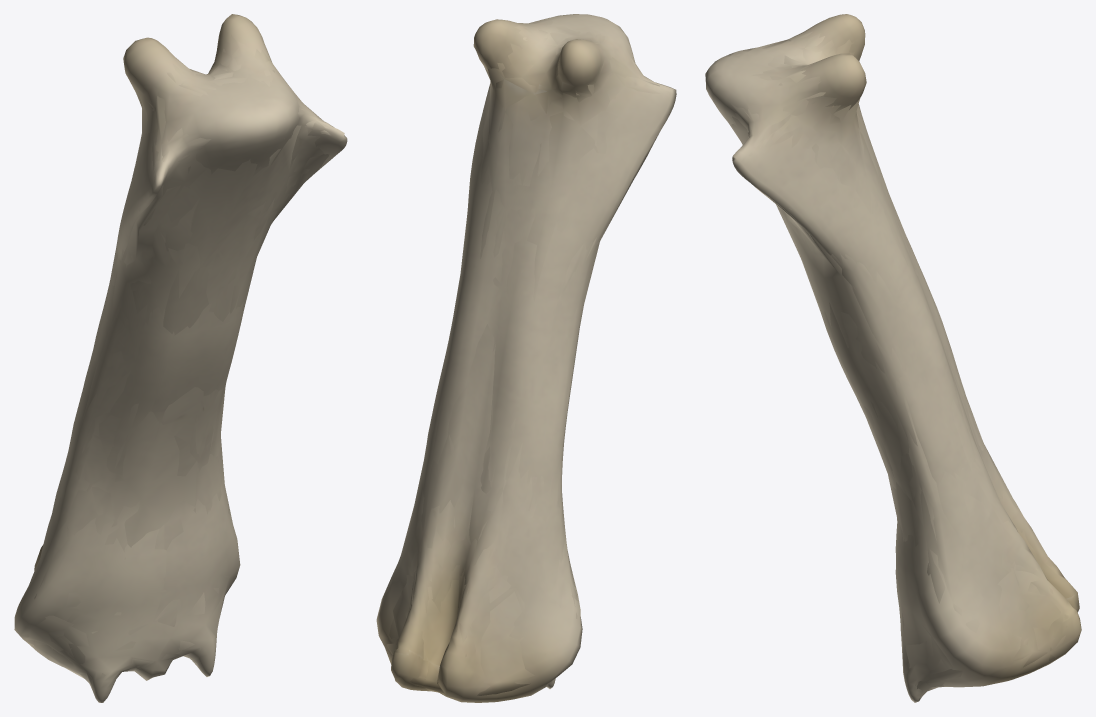
Rendered from vertebrae caudales 08.fbx.
3 views of the same model, side by side, from view 1: azimuth 30°, elevation 25°; view 2: azimuth 150°, elevation 25°; view 3: azimuth 270°, elevation 25° (orthographic). The views are drawn at different scales.
Visible parts, largest first — view 1: vertebrae caudales 08 high, vertebrae caudales 08 low, vertebrae caudales 08; view 2: vertebrae caudales 08 high, vertebrae caudales 08 low, vertebrae caudales 08; view 3: vertebrae caudales 08 high, vertebrae caudales 08 low, vertebrae caudales 08.
Boxes of the visible parts, x1,y1,x2,y2 form: vertebrae caudales 08 high: [14, 14, 347, 702]; vertebrae caudales 08 low: [26, 48, 334, 685]; vertebrae caudales 08: [35, 34, 326, 690]; vertebrae caudales 08 high: [376, 14, 676, 702]; vertebrae caudales 08 low: [386, 22, 659, 695]; vertebrae caudales 08: [389, 18, 667, 688]; vertebrae caudales 08 high: [705, 14, 1081, 702]; vertebrae caudales 08 low: [720, 31, 1068, 698]; vertebrae caudales 08: [729, 33, 1072, 690].
Bounding box in the file's own units: 2.38 × 7.33 × 3.89.
